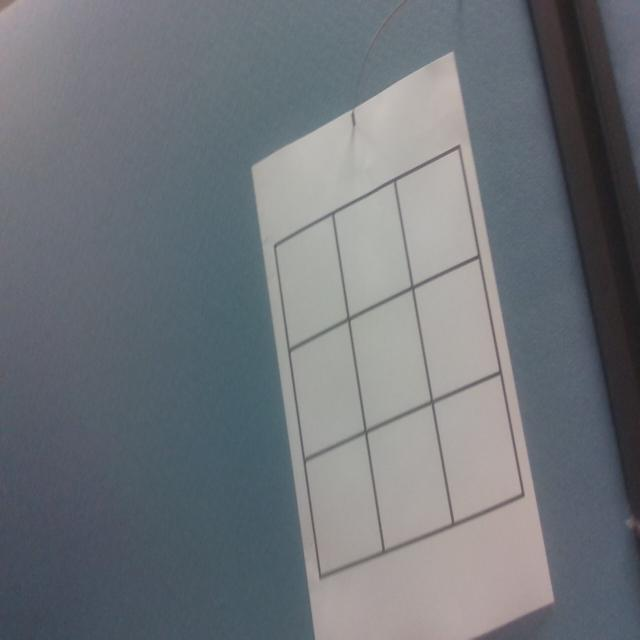null: (434, 375, 522, 530), (368, 404, 451, 555), (416, 259, 500, 403), (398, 148, 478, 289), (351, 290, 431, 431), (305, 433, 380, 580), (271, 213, 348, 353), (292, 320, 365, 459), (337, 181, 411, 316)
table: (246, 138, 536, 585)
